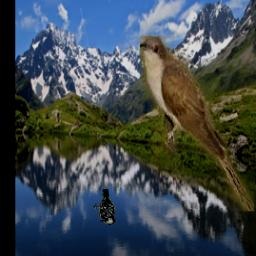Cuckoo: (140, 37, 254, 212)
Woodpecker: (92, 189, 117, 226)
